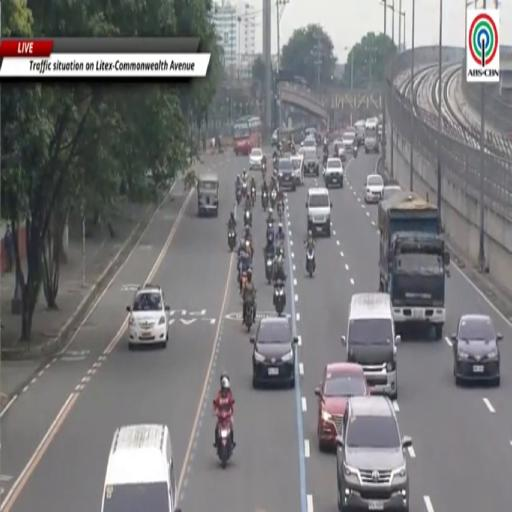bus: (233, 116, 261, 155), (365, 118, 379, 153)
car: (336, 396, 411, 511), (101, 424, 180, 511), (315, 362, 369, 451), (451, 314, 502, 386), (251, 317, 297, 388), (127, 284, 169, 348), (306, 187, 332, 237), (364, 174, 384, 203), (278, 158, 296, 190), (324, 158, 343, 187), (303, 148, 319, 177), (291, 154, 303, 185), (382, 185, 402, 200), (333, 139, 346, 162), (342, 132, 356, 153), (249, 149, 263, 169), (355, 120, 365, 146), (301, 138, 317, 149), (271, 128, 279, 147)
jeepney: (197, 172, 219, 216)
motorcycle: (217, 413, 233, 468), (273, 280, 286, 316), (306, 247, 315, 277), (244, 303, 253, 331), (265, 254, 273, 283), (227, 229, 236, 252), (240, 271, 247, 293), (277, 201, 284, 221), (244, 210, 252, 227), (262, 190, 268, 211), (241, 182, 248, 198), (236, 187, 242, 204), (271, 188, 276, 207), (251, 187, 256, 205), (262, 162, 266, 180), (323, 155, 327, 168), (353, 144, 357, 157)
truck: (378, 191, 449, 339)
